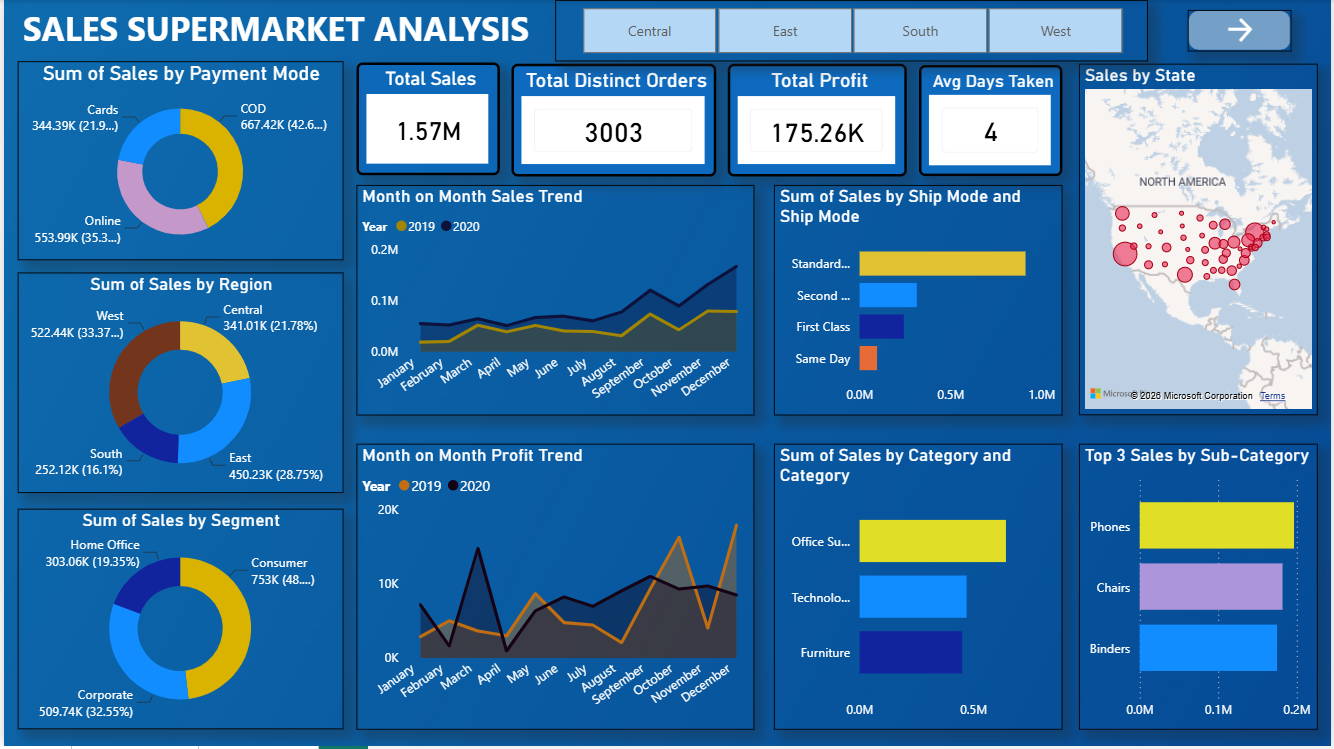

This screenshot's page, from the dashboard's own definition file:
{"tool":"powerbi","page":{"name":"Overview","canvas":[1280,720],"ordinal":0},"visuals":[{"type":"textbox","box":[13.7,0,1196.6,79.6],"z":0},{"type":"cardVisual","title":"Total Sales","fields":{"Data":["Sum(Sales_Dataset_proj2.Sales)"]},"box":[340.3,60.4,138.6,108.4],"z":1000},{"type":"cardVisual","title":"Total Profit","fields":{"Data":["Sum(Sales_Dataset_proj2.Profit)"]},"box":[698.5,61.7,172.9,108.4],"z":2000},{"type":"cardVisual","title":"Avg Days Taken","fields":{"Data":["Avg(Sales_Dataset_proj2.ShipDays)"]},"box":[883.1,62.7,138.7,107.4],"z":3000},{"type":"donutChart","fields":{"Category":["Sales_Dataset_proj2.Payment Mode"],"Y":["Sum(Sales_Dataset_proj2.Sales)"]},"box":[13.7,59,314.2,192.1],"z":4000},{"type":"donutChart","fields":{"Y":["Sum(Sales_Dataset_proj2.Sales)"],"Series":["Sales_Dataset_proj2.Region"]},"box":[13.7,263.5,314.2,212.7],"z":5000},{"type":"donutChart","fields":{"Y":["Sum(Sales_Dataset_proj2.Sales)"],"Series":["Sales_Dataset_proj2.Segment"]},"box":[13.7,491.3,314.2,212.7],"z":6000},{"type":"cardVisual","title":"Total Distinct Orders","fields":{"Data":["Count(Sales_Dataset_proj2.Order ID)"]},"box":[489.8,61.5,197.9,108.6],"z":7000},{"type":"areaChart","title":" Month on Month Sales Trend","fields":{"Y":["Sum(Sales_Dataset_proj2.Sales)"],"Category":["Sales_Dataset_proj2.Order Date.Variation.Date Hierarchy.Month"],"Series":["Sales_Dataset_proj2.Order Date.Variation.Date Hierarchy.Year"]},"box":[340.3,178.4,384.2,222.3],"z":8000},{"type":"areaChart","title":"Month on Month Profit Trend","fields":{"Y":["Sum(Sales_Dataset_proj2.Profit)"],"Category":["Sales_Dataset_proj2.Order Date.Variation.Date Hierarchy.Month"],"Series":["Sales_Dataset_proj2.Order Date.Variation.Date Hierarchy.Year"]},"box":[340.3,428.1,384.2,275.8],"z":9000},{"type":"barChart","fields":{"Y":["Sum(Sales_Dataset_proj2.Sales)"],"Category":["Sales_Dataset_proj2.Ship Mode"],"Series":["Sales_Dataset_proj2.Ship Mode"]},"box":[743.7,178.4,278.6,222.3],"z":10000},{"type":"barChart","fields":{"Y":["Sum(Sales_Dataset_proj2.Sales)"],"Category":["Sales_Dataset_proj2.Category"],"Series":["Sales_Dataset_proj2.Category"]},"box":[743.7,428.1,278.6,275.8],"z":11000},{"type":"map","title":"Sales by State","fields":{"Category":["Sales_Dataset_proj2.State"],"Size":["Sum(Sales_Dataset_proj2.Sales)"]},"box":[1037.4,61.7,230.5,338.9],"z":12000},{"type":"barChart","title":"Top 3 Sales by Sub-Category","fields":{"Y":["Sum(Sales_Dataset_proj2.Sales)"],"Category":["Sales_Dataset_proj2.Sub-Category"],"Series":["Sales_Dataset_proj2.Sub-Category"]},"box":[1037.4,428.1,230.5,275.8],"z":13000},{"type":"slicer","fields":{"Values":["Sales_Dataset_proj2.Region"]},"box":[532.4,0,572.2,59],"z":14000},{"type":"actionButton","box":[1143.1,9.6,100.2,39.8],"z":15000}]}

Visuals, with their boxes in screenshot pixels (x1, y1, x2, y2), scaled from the page's 1280x720 canvas onto the 1334x749 screenshot:
textbox: {"left": 14, "top": 0, "right": 1261, "bottom": 83}
"Total Sales" cardVisual: {"left": 355, "top": 63, "right": 499, "bottom": 176}
"Total Profit" cardVisual: {"left": 728, "top": 64, "right": 908, "bottom": 177}
"Avg Days Taken" cardVisual: {"left": 920, "top": 65, "right": 1065, "bottom": 177}
donutChart - Sales_Dataset_proj2.Payment Mode x Sum(Sales_Dataset_proj2.Sales): {"left": 14, "top": 61, "right": 342, "bottom": 261}
donutChart - Sum(Sales_Dataset_proj2.Sales) x Sales_Dataset_proj2.Region: {"left": 14, "top": 274, "right": 342, "bottom": 495}
donutChart - Sum(Sales_Dataset_proj2.Sales) x Sales_Dataset_proj2.Segment: {"left": 14, "top": 511, "right": 342, "bottom": 732}
"Total Distinct Orders" cardVisual: {"left": 510, "top": 64, "right": 717, "bottom": 177}
" Month on Month Sales Trend" areaChart: {"left": 355, "top": 186, "right": 755, "bottom": 417}
"Month on Month Profit Trend" areaChart: {"left": 355, "top": 445, "right": 755, "bottom": 732}
barChart - Sum(Sales_Dataset_proj2.Sales) x Sales_Dataset_proj2.Ship Mode: {"left": 775, "top": 186, "right": 1065, "bottom": 417}
barChart - Sum(Sales_Dataset_proj2.Sales) x Sales_Dataset_proj2.Category: {"left": 775, "top": 445, "right": 1065, "bottom": 732}
"Sales by State" map: {"left": 1081, "top": 64, "right": 1321, "bottom": 417}
"Top 3 Sales by Sub-Category" barChart: {"left": 1081, "top": 445, "right": 1321, "bottom": 732}
slicer - Sales_Dataset_proj2.Region: {"left": 555, "top": 0, "right": 1151, "bottom": 61}
actionButton: {"left": 1191, "top": 10, "right": 1296, "bottom": 51}
